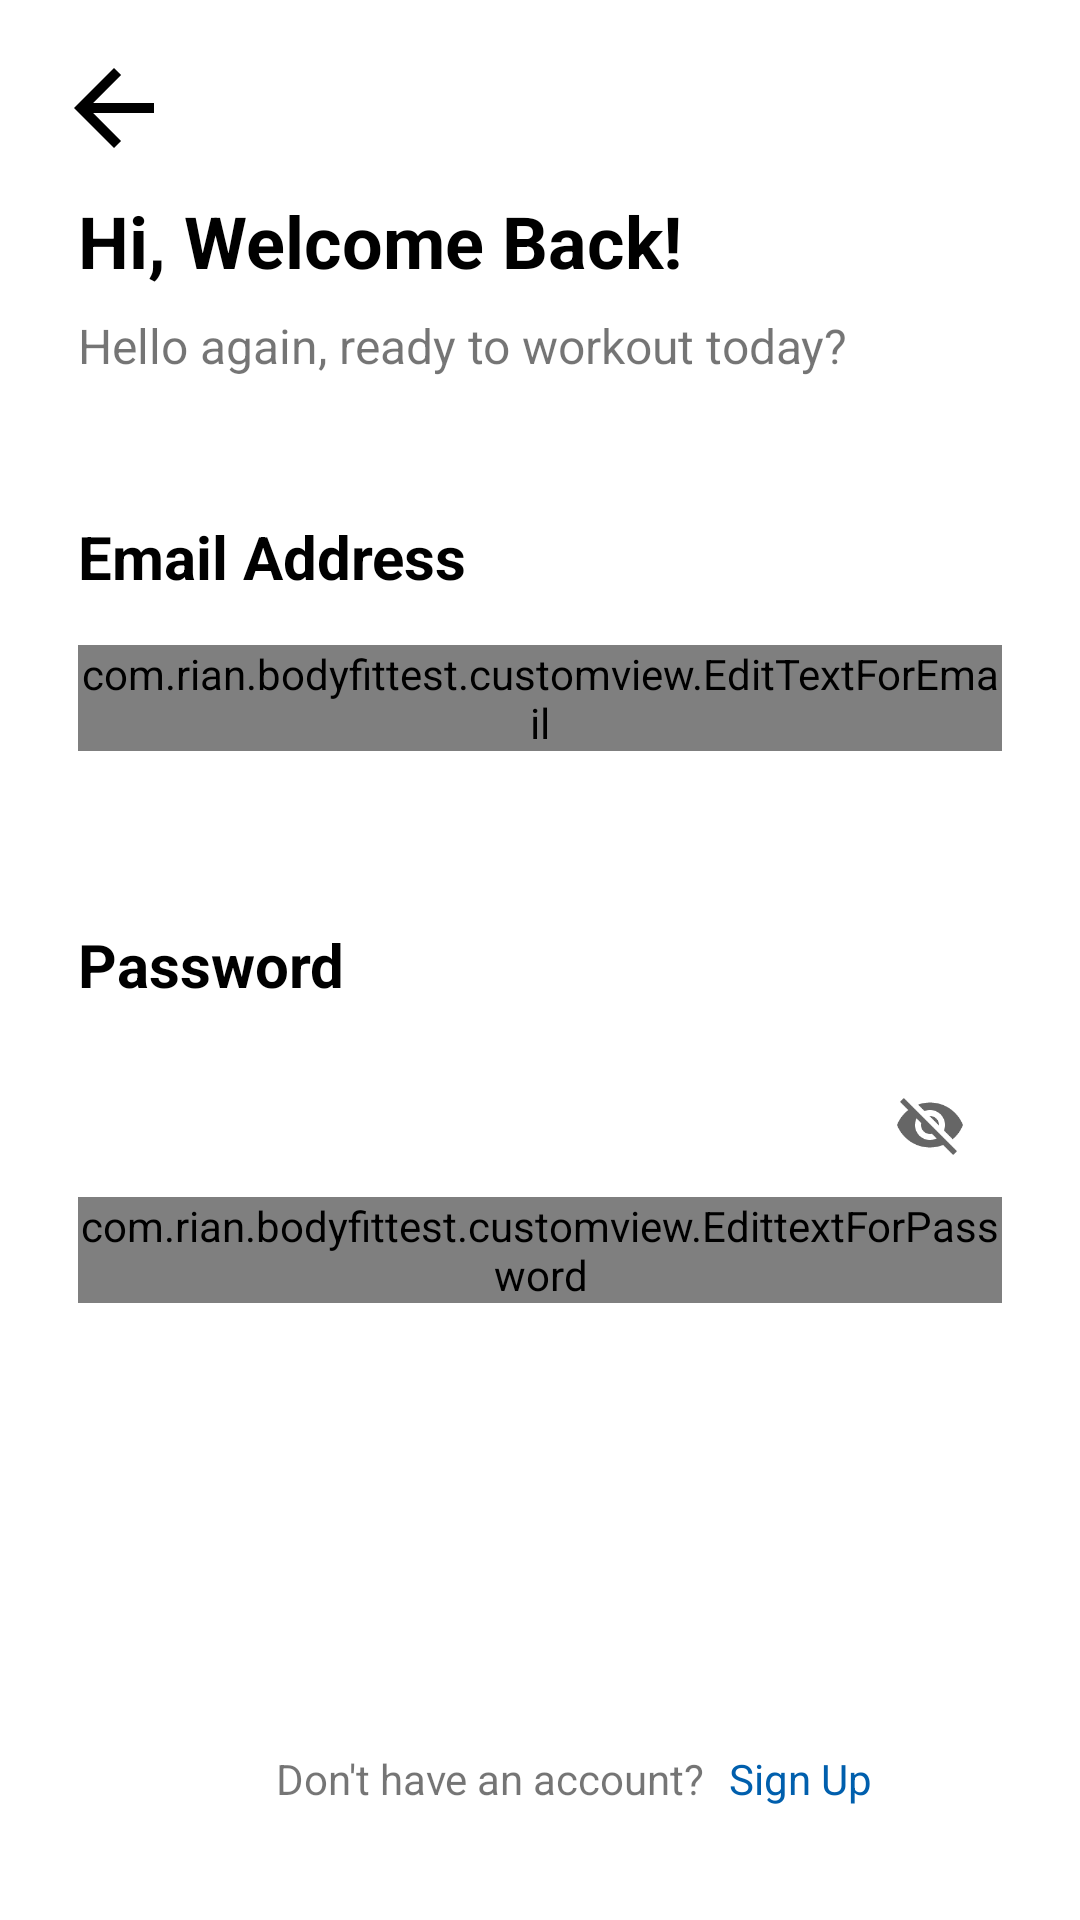

Where icons sit on this 1080×1920 app screen, as bbox(x1, y1, x2, y2):
arrow back: bbox(74, 68, 154, 148)
